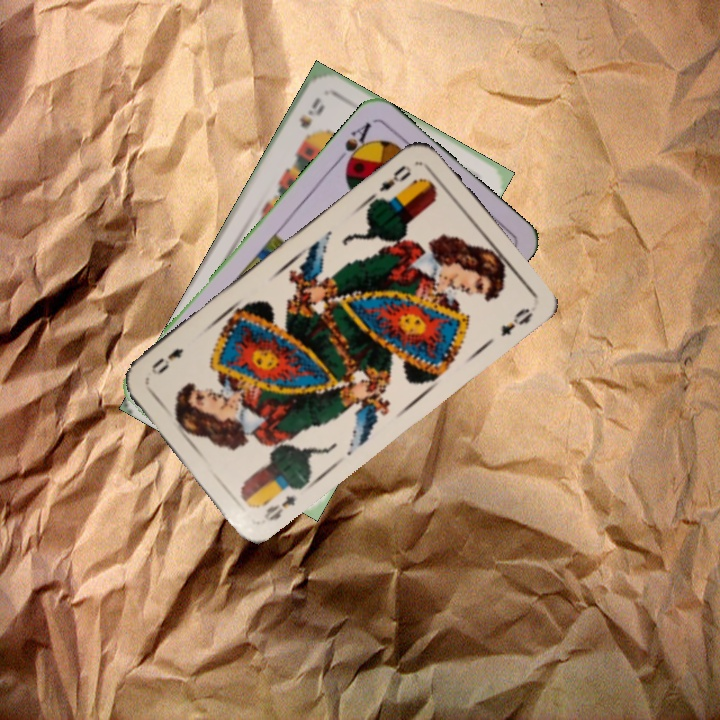EO: (375, 160, 414, 195), (260, 491, 298, 524)
S9: (294, 93, 327, 131)
SA: (332, 118, 375, 173)
